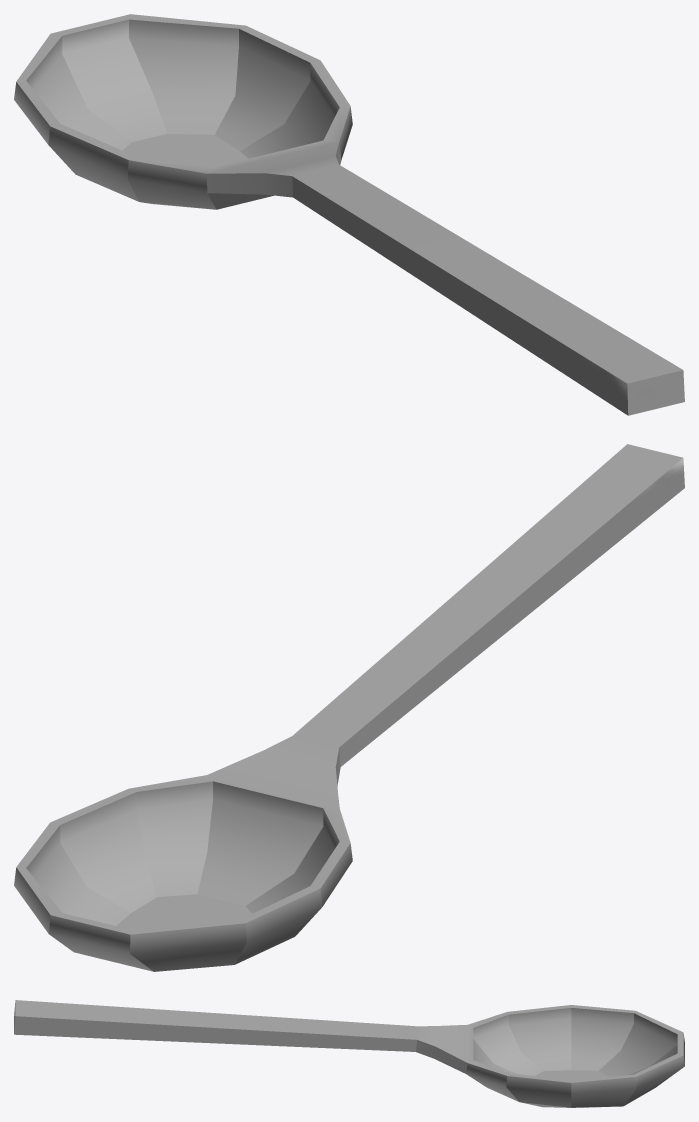
The model's file is spoon_small.fbx.
3 renders of one model, top to bottom at view 1: azimuth 30°, elevation 25°; view 2: azimuth 150°, elevation 25°; view 3: azimuth 270°, elevation 25°, orthographic. The views are drawn at different scales.
Visible parts, largest first — view 1: spoon_small; view 2: spoon_small; view 3: spoon_small.
Part boxes in pixels (bbox=[...]): spoon_small: bbox=[14, 14, 684, 415]; spoon_small: bbox=[14, 444, 684, 971]; spoon_small: bbox=[14, 1000, 684, 1107].
Size of the model in its own units: 0.4158 by 0.21 by 1.49.
